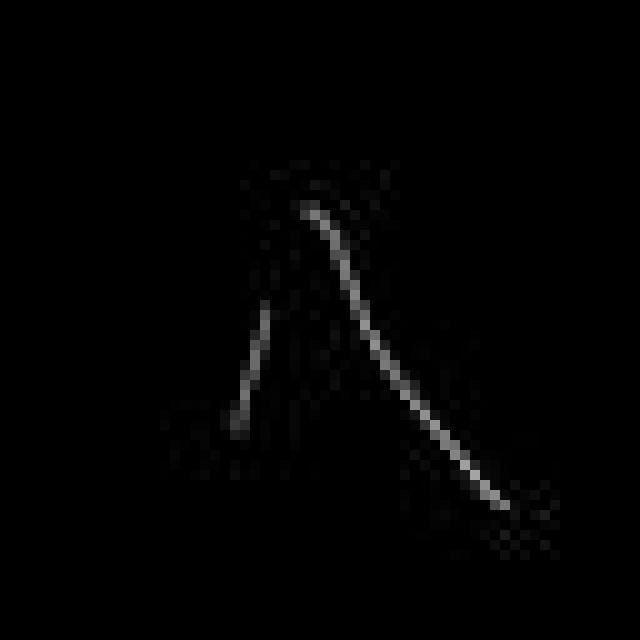8 -eight-: (214, 188, 522, 536)
